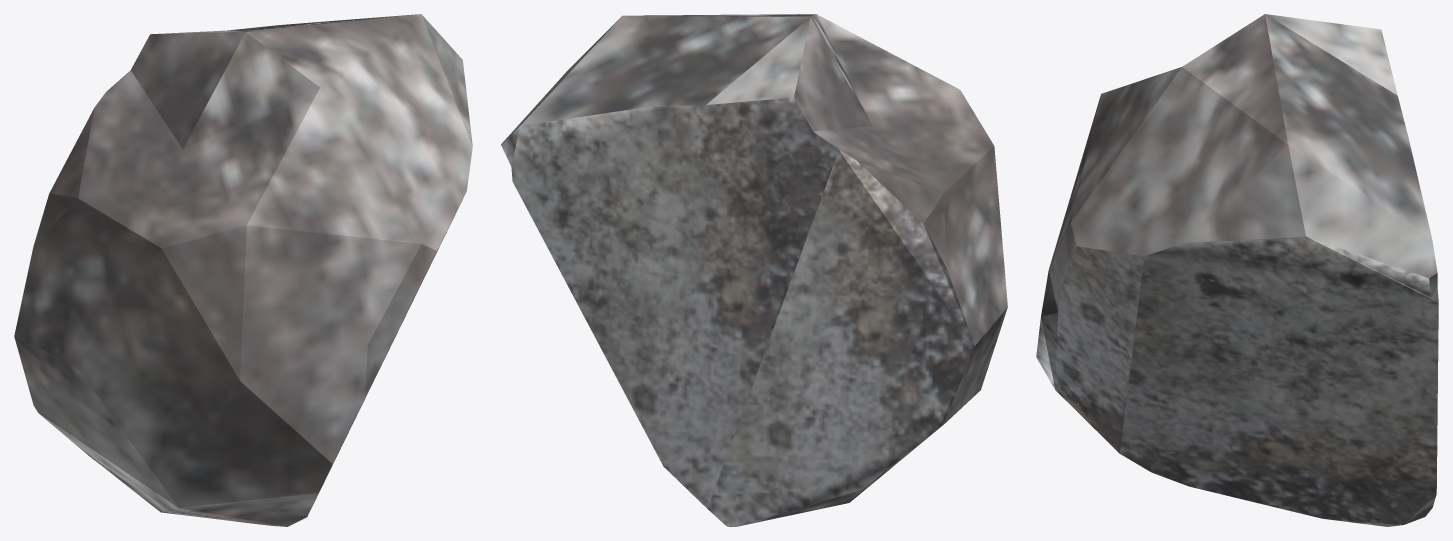
The model's file is Asteroid_Small_001_03_002.fbx.
3 views of the same model, side by side, from view 1: azimuth 30°, elevation 25°; view 2: azimuth 150°, elevation 25°; view 3: azimuth 270°, elevation 25° (orthographic). The views are drawn at different scales.
Parts seen in each view (by area): view 1: Asteroid_Small_001_03_002; view 2: Asteroid_Small_001_03_002; view 3: Asteroid_Small_001_03_002.
Boxes of the visible parts, <box> form: Asteroid_Small_001_03_002: <box>14,14,472,526</box>; Asteroid_Small_001_03_002: <box>501,14,1007,526</box>; Asteroid_Small_001_03_002: <box>1036,14,1438,526</box>.
Bounding box in the file's own units: 7.77 × 8.01 × 5.85.
